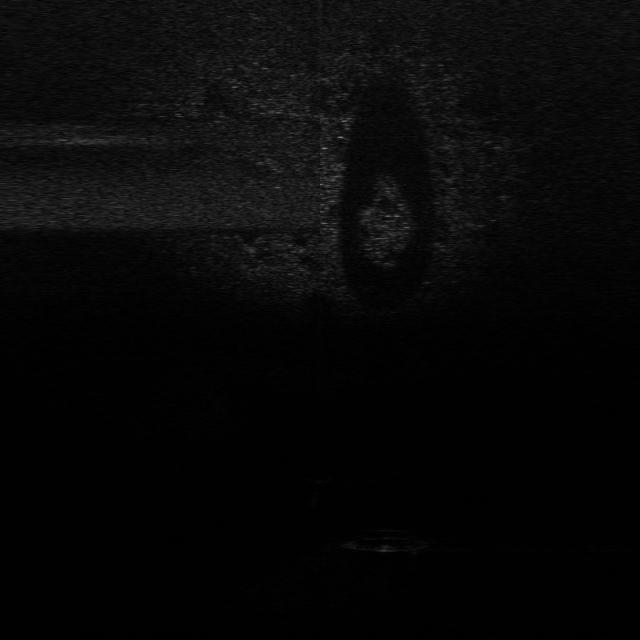ball: (302, 466, 333, 485)
tyre: (342, 528, 433, 556)
